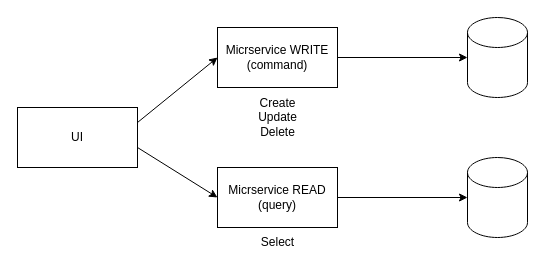
This 545x275 diagram has some shape labels left out. Each missing label, with the box of its shape:
BD Read: (466, 156, 528, 238)
BD Write: (466, 16, 528, 98)
